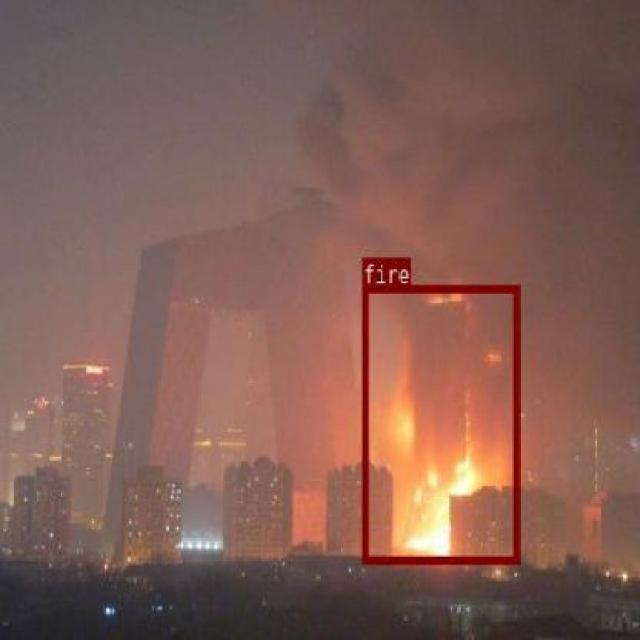fire: (360, 284, 518, 562)
